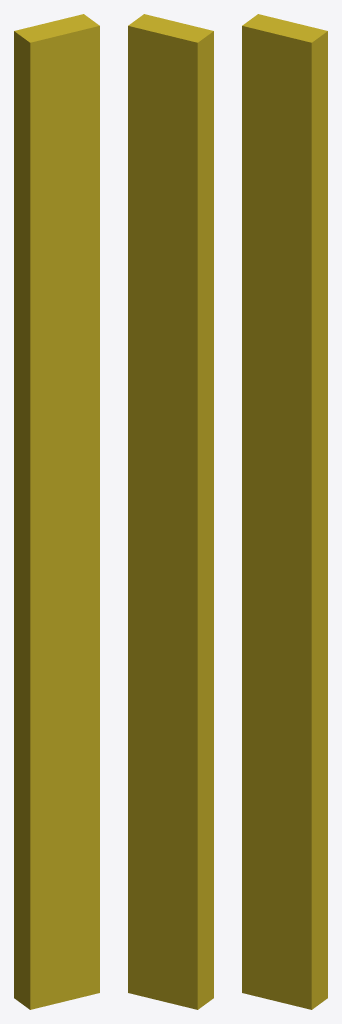
The picture shows the model from 3 angles, left to right: view 1: azimuth 30°, elevation 25°; view 2: azimuth 150°, elevation 25°; view 3: azimuth 330°, elevation 25°; orthographic projection.
Parts seen in each view (by area): view 1: geometry_0; view 2: geometry_0; view 3: geometry_0.
Boxes of the visible parts, x1,y1,x2,y2 form: geometry_0: (14,14,99,1009); geometry_0: (128,14,213,1009); geometry_0: (242,14,327,1009).
Size of the model in its own units: 2.5 by 33.12 by 1.
